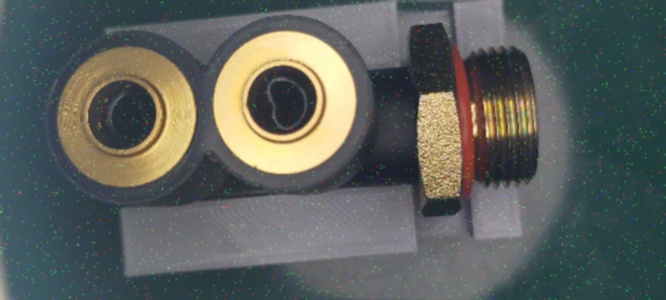joint line: (375, 113, 415, 124)
off-centered: (258, 72, 318, 139), (99, 84, 158, 147)
